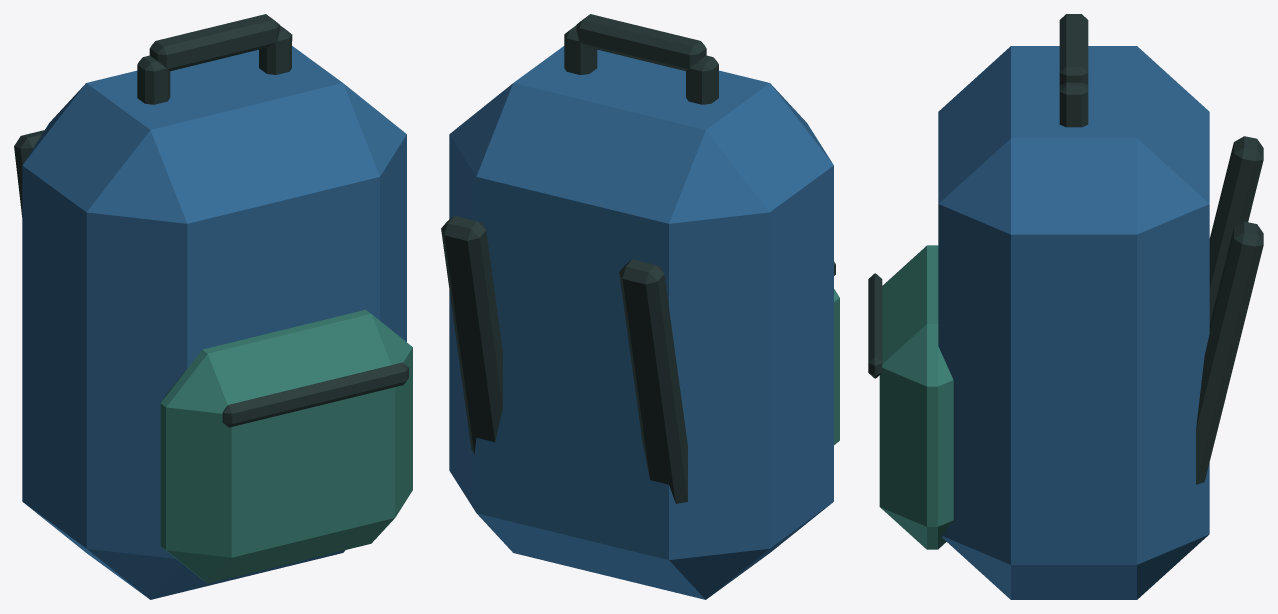
File: backpack.glb
The picture shows the model from 3 angles, left to right: view 1: azimuth 30°, elevation 25°; view 2: azimuth 150°, elevation 25°; view 3: azimuth 270°, elevation 25°; orthographic projection.
Visible parts, largest first — view 1: Corpo da mochila, Bolso da frente, Alça; view 2: Corpo da mochila, Alça, Bolso da frente; view 3: Corpo da mochila, Bolso da frente, Alça.
Boxes of the visible parts, bbox=[...] form: Corpo da mochila: bbox=[22, 46, 406, 599]; Bolso da frente: bbox=[160, 309, 412, 583]; Alça: bbox=[14, 14, 408, 427]; Corpo da mochila: bbox=[449, 46, 833, 599]; Alça: bbox=[441, 14, 835, 503]; Bolso da frente: bbox=[834, 289, 839, 444]; Corpo da mochila: bbox=[938, 46, 1209, 599]; Bolso da frente: bbox=[879, 245, 953, 549]; Alça: bbox=[868, 14, 1263, 484].
Size of the model in its own units: 0.331 by 0.516 by 0.3604.
